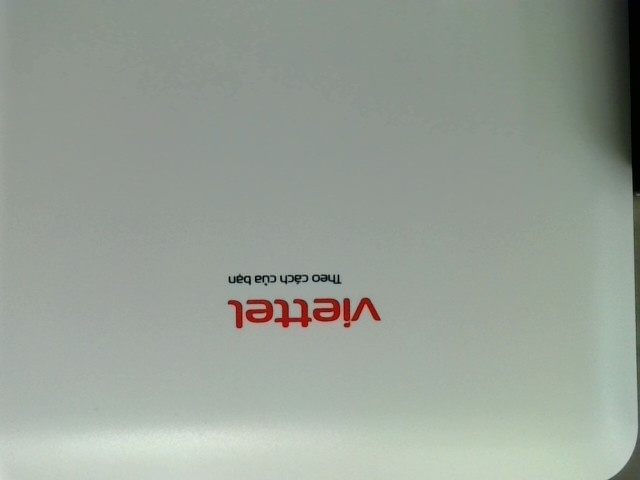AY_Viettel: (218, 271, 381, 327)
